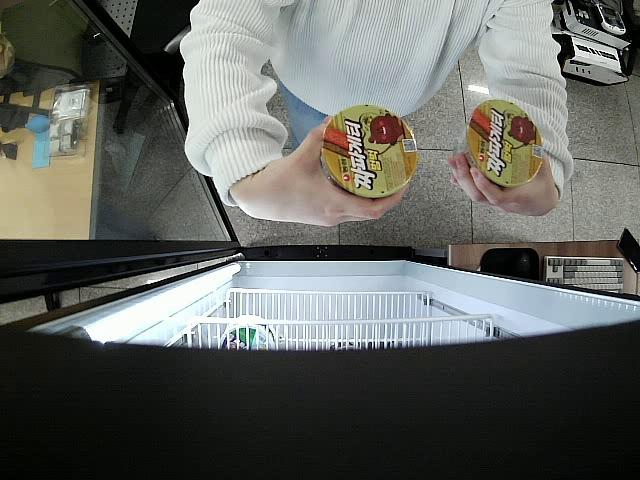00_hand: (248, 108, 411, 225), (447, 135, 557, 218)
04_chapagetti_S: (325, 103, 420, 197), (455, 95, 544, 187)
